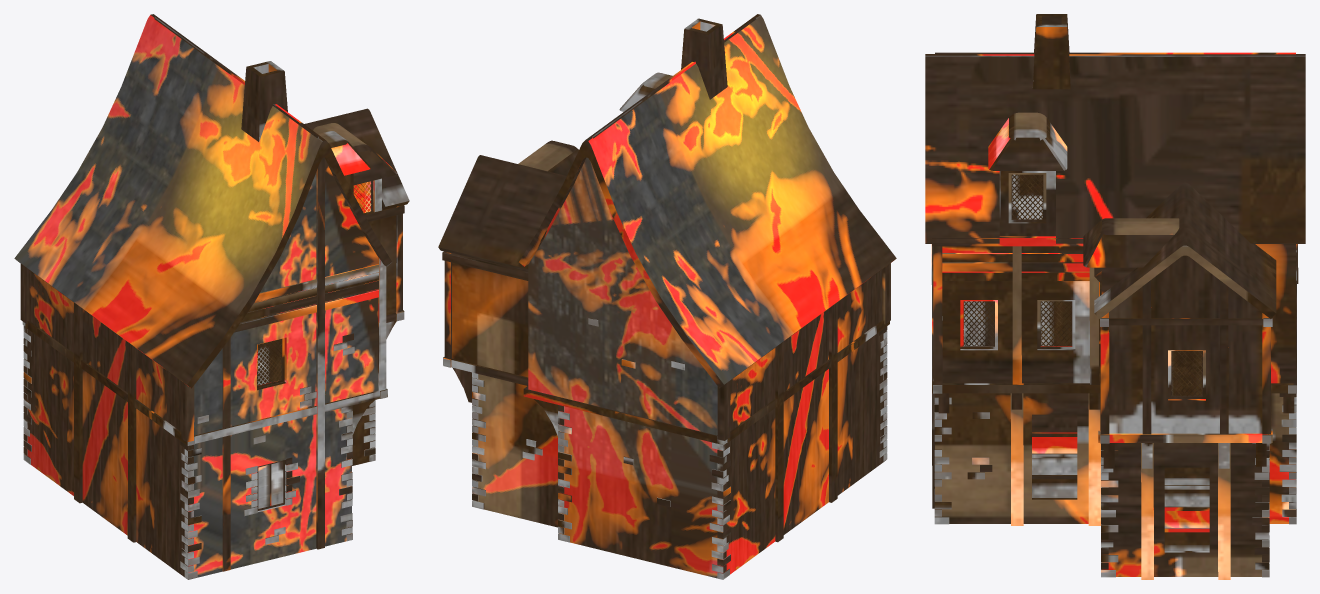
File: medieval houses 2.fbx
3 views of the same model, side by side, from view 1: azimuth 30°, elevation 25°; view 2: azimuth 150°, elevation 25°; view 3: azimuth 270°, elevation 25° (orthographic). The views are drawn at different scales.
Parts seen in each view (by area): view 1: Object_3; view 2: Object_3; view 3: Object_3.
Part boxes in pixels (bbox=[...]): Object_3: bbox=[14, 14, 409, 579]; Object_3: bbox=[438, 14, 896, 579]; Object_3: bbox=[925, 14, 1305, 579].
Bounding box in the file's own units: 509 × 715 × 508.
